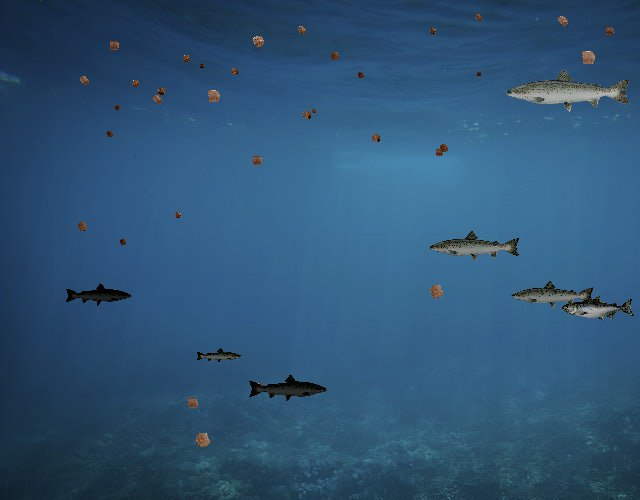Fish: (504, 67, 633, 113), (429, 229, 523, 263), (510, 279, 596, 310), (247, 373, 328, 403), (563, 295, 636, 321), (64, 282, 132, 306), (196, 348, 243, 365)
Pellet: (188, 424, 218, 454), (246, 29, 271, 54), (181, 392, 204, 415), (366, 128, 385, 147), (170, 208, 185, 223), (116, 235, 130, 249), (426, 24, 440, 38)
